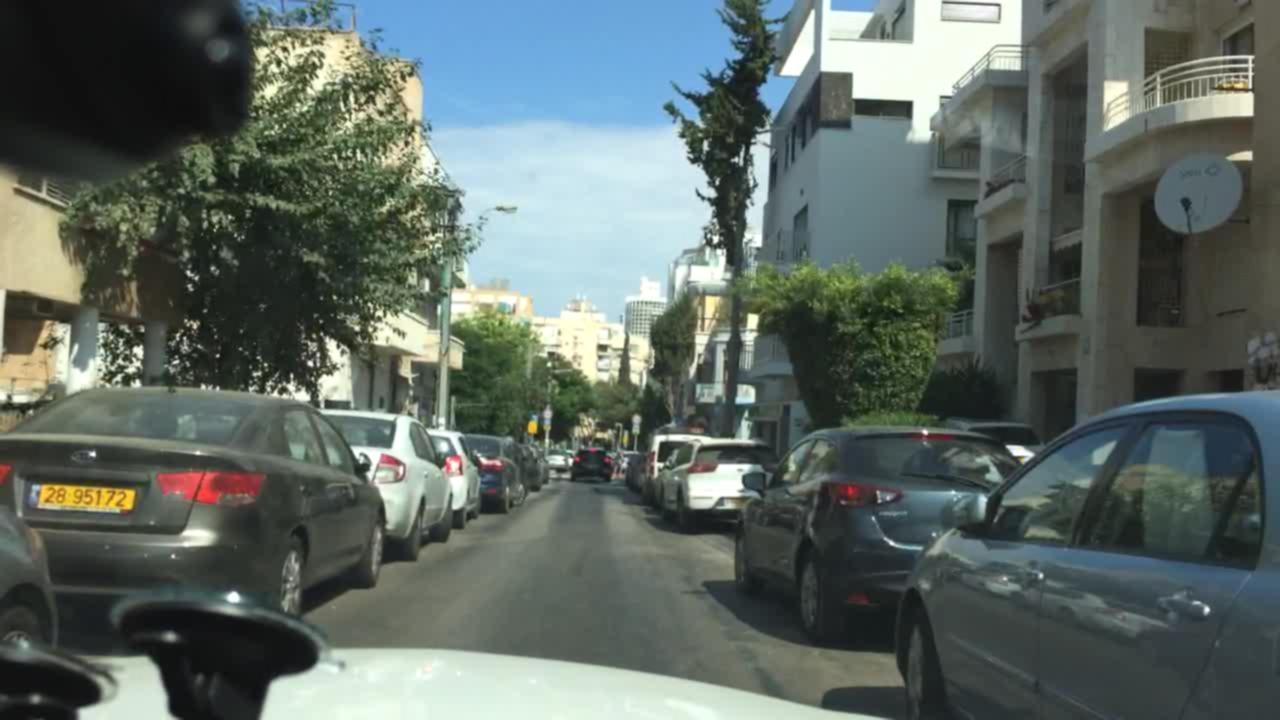kia: (61, 444, 102, 465)
